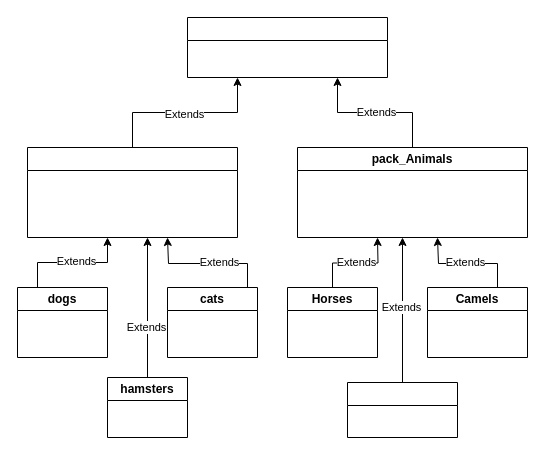
This 545x455 diagram has some shape labels left out. Each missing label, with the centre of its shape:
Class Animals: (x=287, y=47)
Donkeys: (x=402, y=410)
home_Animals: (x=132, y=192)
